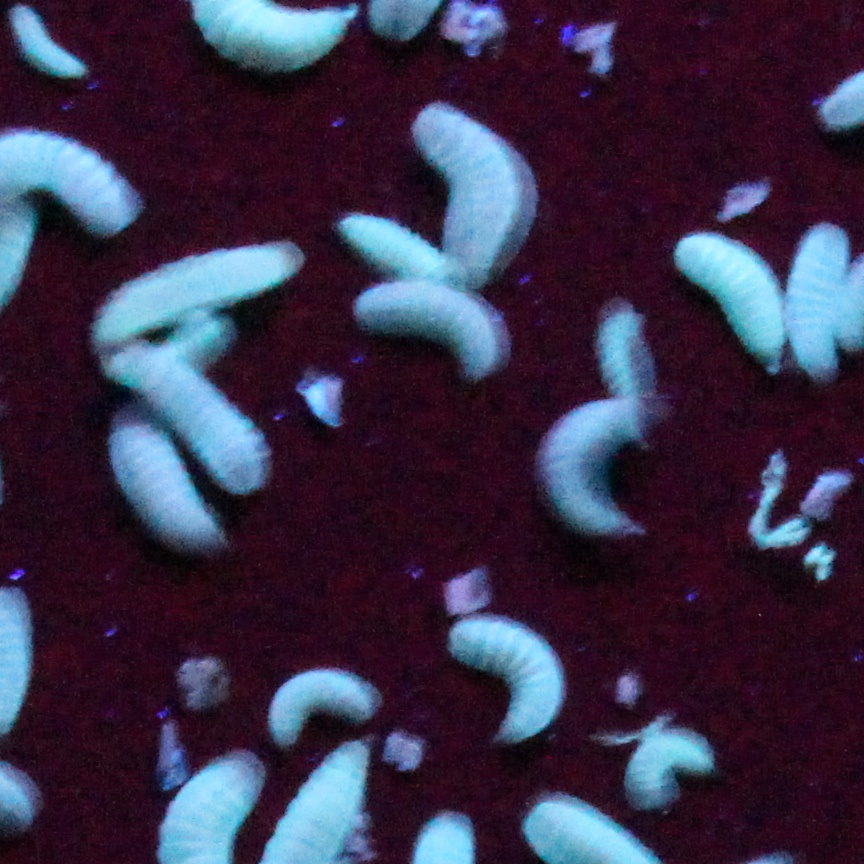larve: (111, 342, 266, 494), (95, 247, 300, 340), (421, 101, 522, 283), (348, 280, 505, 375), (537, 406, 646, 540), (671, 237, 784, 364), (450, 613, 560, 736), (111, 416, 206, 551), (790, 225, 847, 380), (263, 666, 379, 736), (334, 218, 449, 282), (595, 300, 654, 406), (625, 726, 710, 799), (14, 5, 83, 83)
